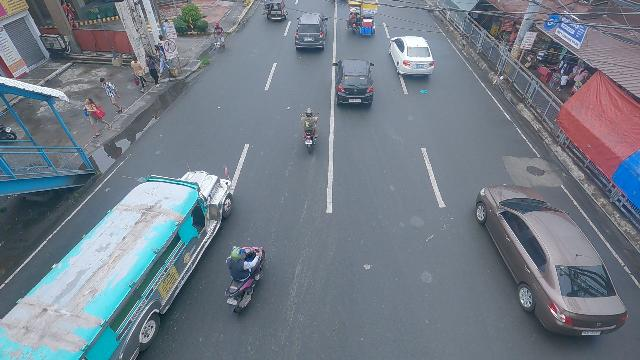car: (474, 181, 629, 341), (332, 57, 375, 108), (387, 35, 434, 77), (293, 12, 328, 52)
jeepney: (0, 167, 236, 360)
motorcycle: (222, 244, 267, 314), (300, 107, 319, 155)
